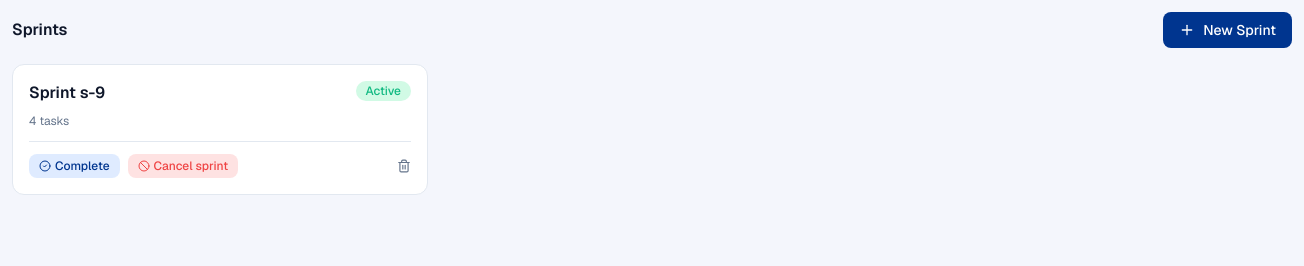
Scenario: R39/R37 — the backlog sweep is reported, not merely done › completing names the number of open tasks that went back
Click the button with test id "sprint-complete-s-9": click(74, 166) [29,154,120,178]
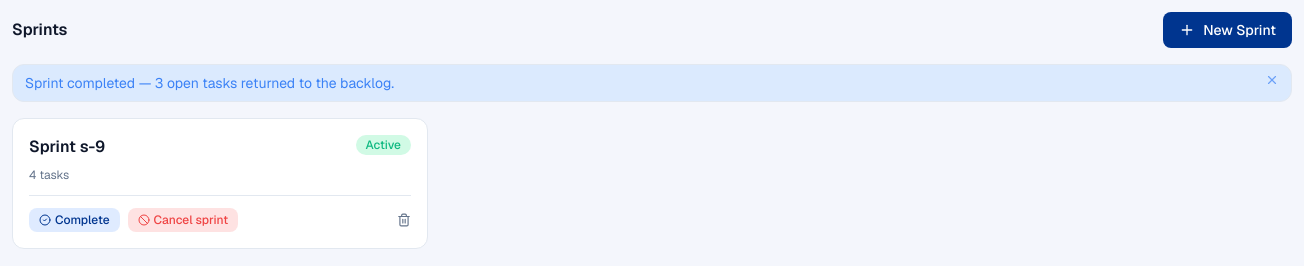
Result: the message with test id "sprint-close-notice" shows "3 open tasks returned to the backlog" at [25,74,394,92]
